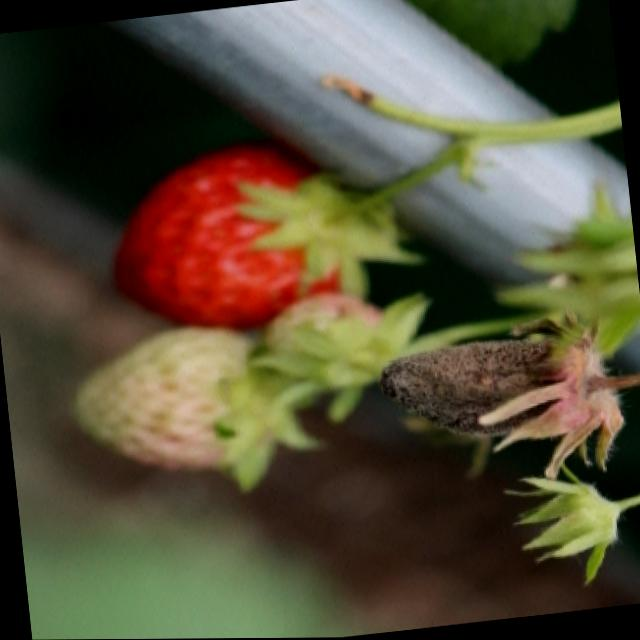Gray Mold: (375, 309, 640, 481)
